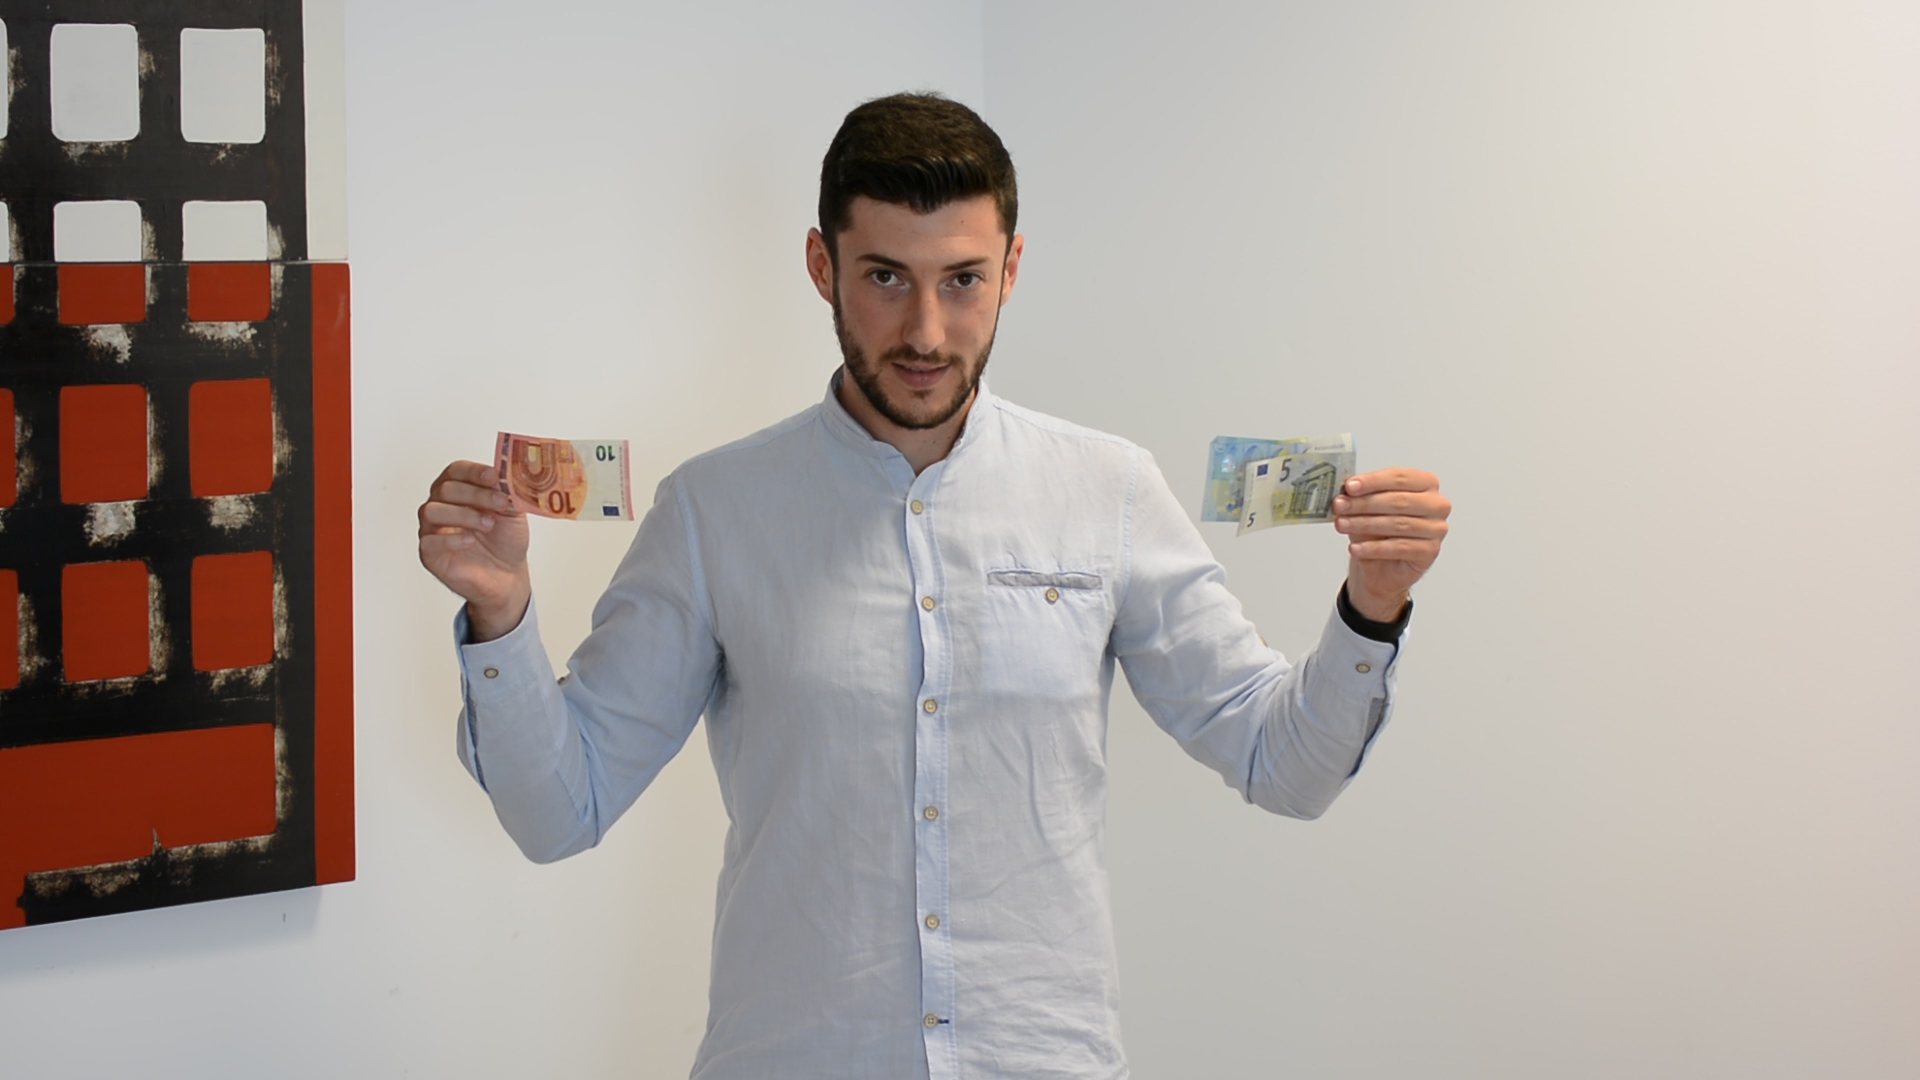billete: (1197, 429, 1356, 535), (493, 433, 636, 525)
